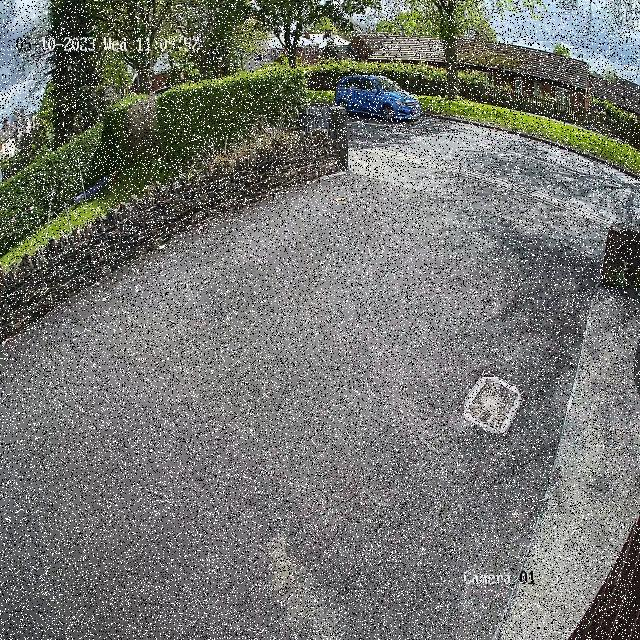vehicle: (329, 66, 430, 129)
